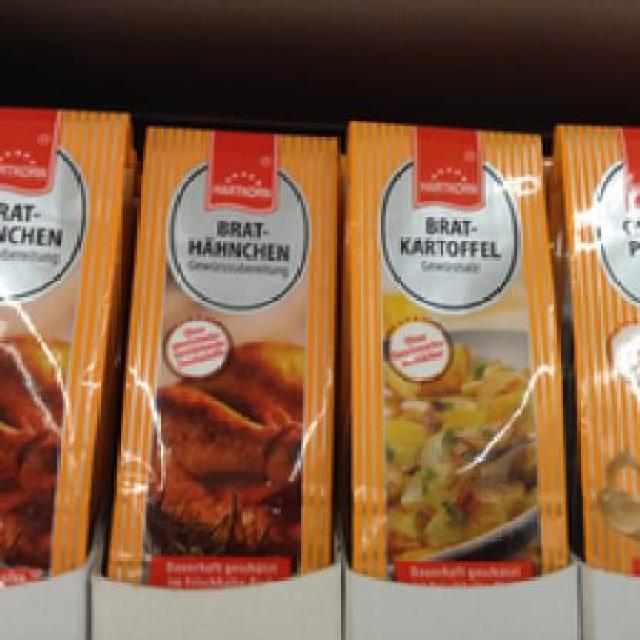Spices: (97, 114, 334, 586), (340, 111, 563, 584), (0, 102, 120, 578)
